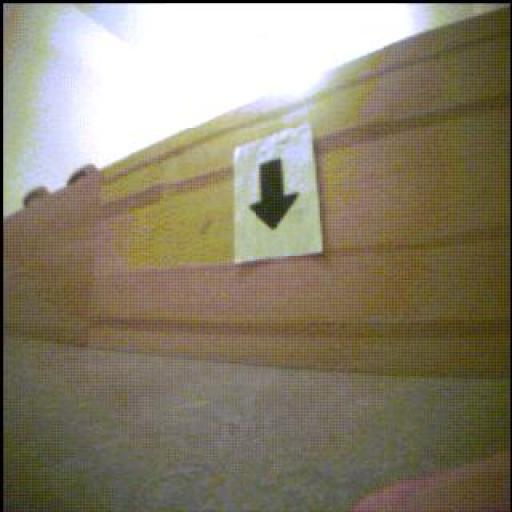Arrow: (251, 159, 299, 230)
